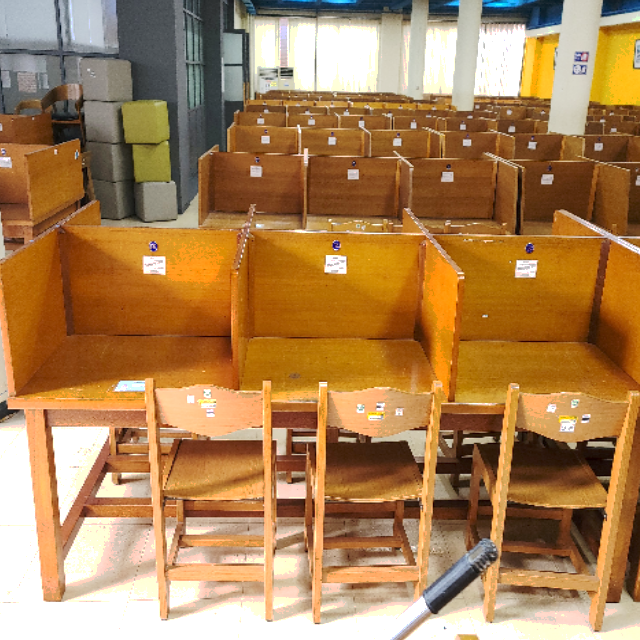empty: (5, 222, 257, 512), (261, 222, 453, 497), (463, 231, 640, 495)
